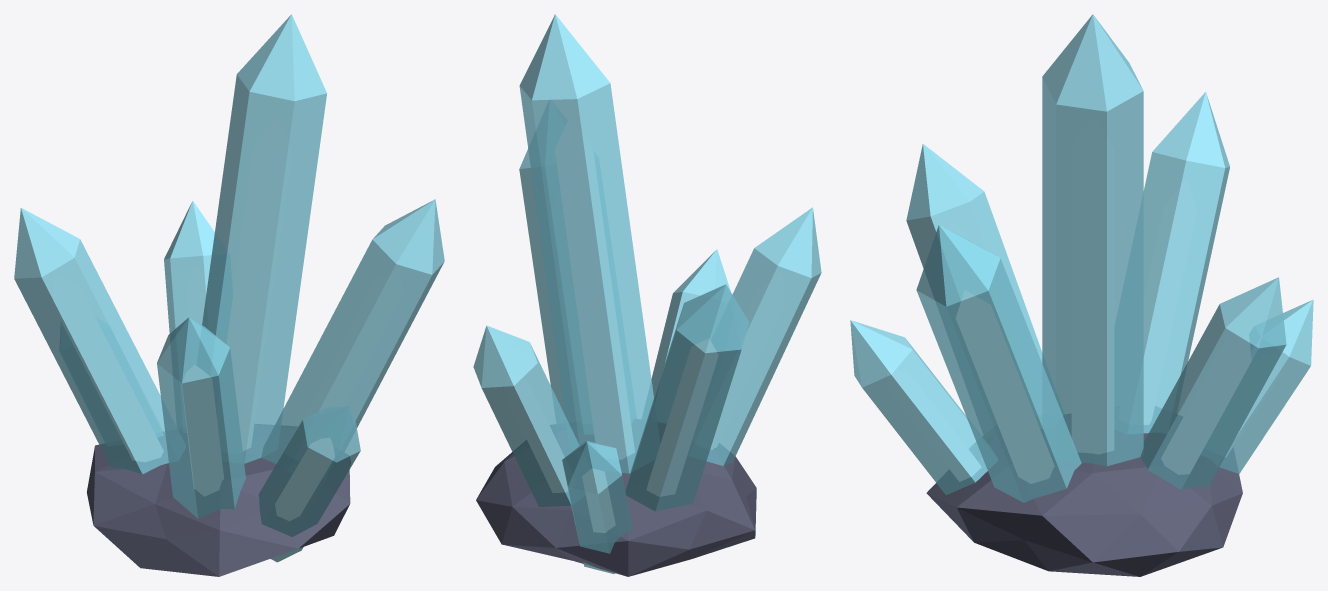
Rendered from Crystal_Shards.glb.
The picture shows the model from 3 angles, left to right: view 1: azimuth 30°, elevation 25°; view 2: azimuth 150°, elevation 25°; view 3: azimuth 270°, elevation 25°; orthographic projection. The views are drawn at different scales.
Parts seen in each view (by area): view 1: Crystals, Base, Cores; view 2: Crystals, Base, Cores; view 3: Crystals, Base, Cores.
Part boxes in pixels (box(x1,y1,x2,y2)): Crystals: box(14, 14, 444, 562); Base: box(86, 425, 350, 576); Cores: box(53, 136, 400, 518); Crystals: box(473, 14, 821, 573); Base: box(476, 419, 756, 576); Cores: box(506, 136, 782, 531); Crystals: box(850, 14, 1313, 502); Base: box(926, 414, 1242, 576); Cores: box(887, 141, 1279, 479).
Bounding box in the file's own units: 2.84 × 4.39 × 3.21.
